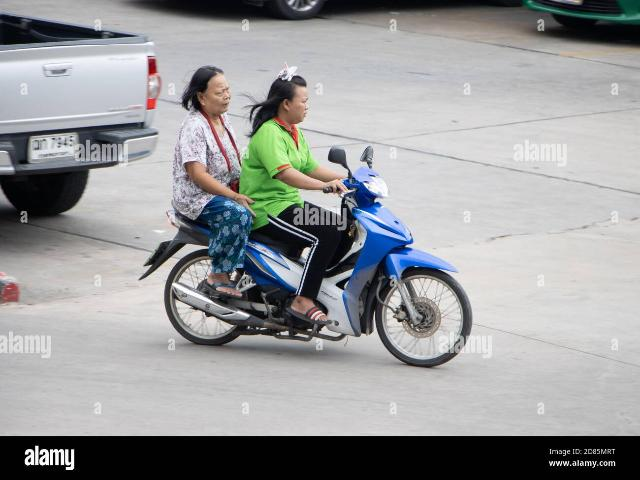motor: (135, 144, 472, 368)
non-helm: (191, 67, 232, 116), (273, 76, 310, 124)
